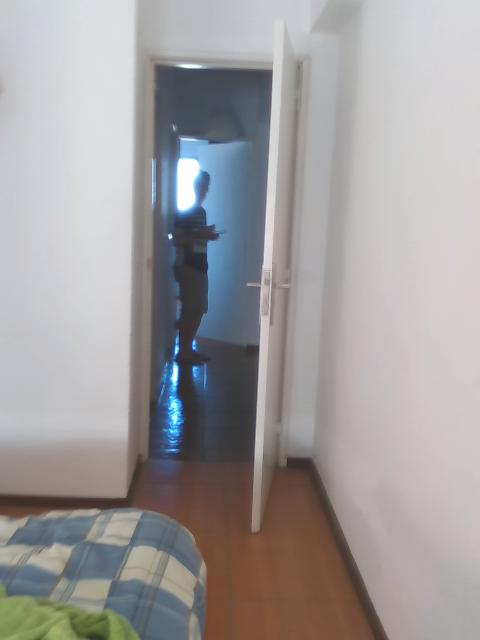open_door: (138, 47, 313, 469)
